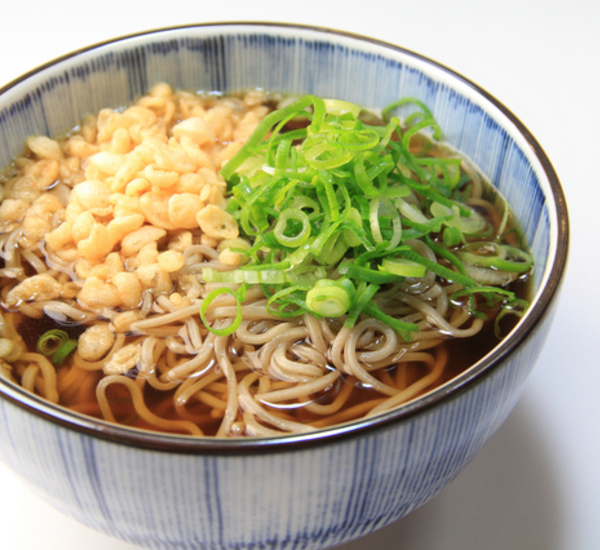Soba: (21, 99, 534, 411)
